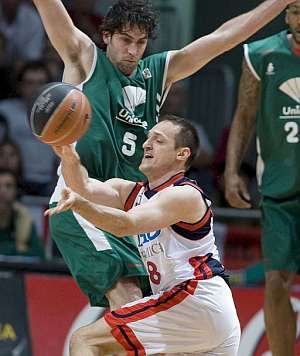basketball: (25, 81, 91, 145)
